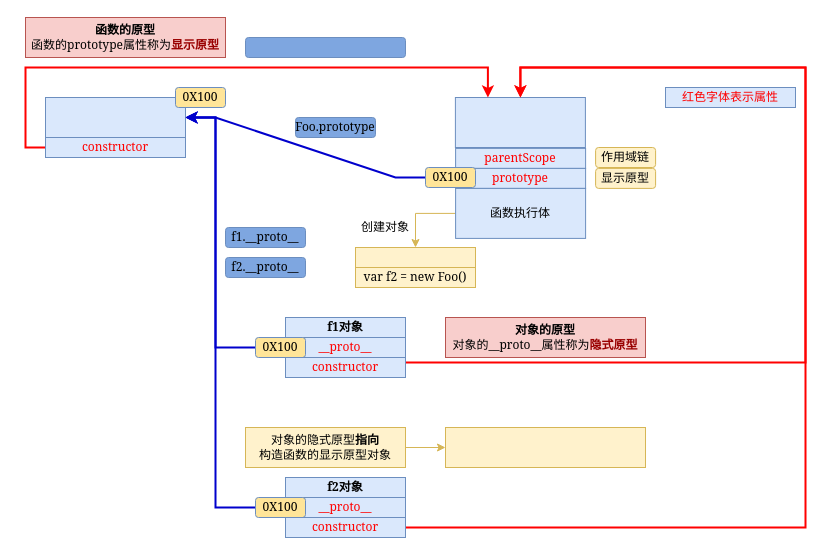
Image size: 831x555. Some labels were removed from this diagram. The shapes that lost their labels are listed below. From the top down, each one's box as (x1, y1, x2, y2) in pixels, then its label:
(244, 36, 406, 58): Foo. prototype. constructor
(44, 96, 186, 138): Foo函数的原型对象 Foo. prototype = {}
(454, 96, 585, 148): Foo函数对象 function Foo() { ... }
(354, 246, 476, 268): var f1 = new Foo()
(444, 426, 646, 468): f1.__proto__ === F oo.prototype f2.__proto__ === F oo.prototype
